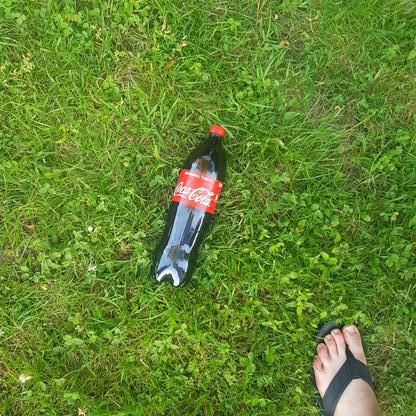coca-cola: (149, 120, 232, 289)
